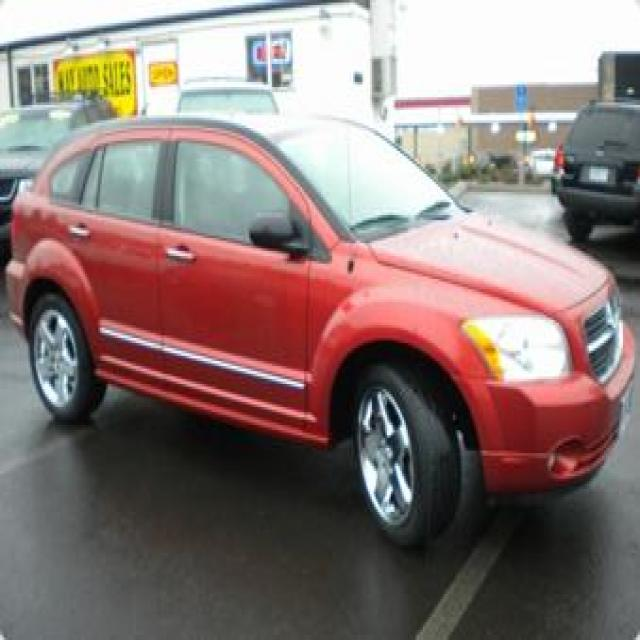Car: (31, 68, 618, 592)
